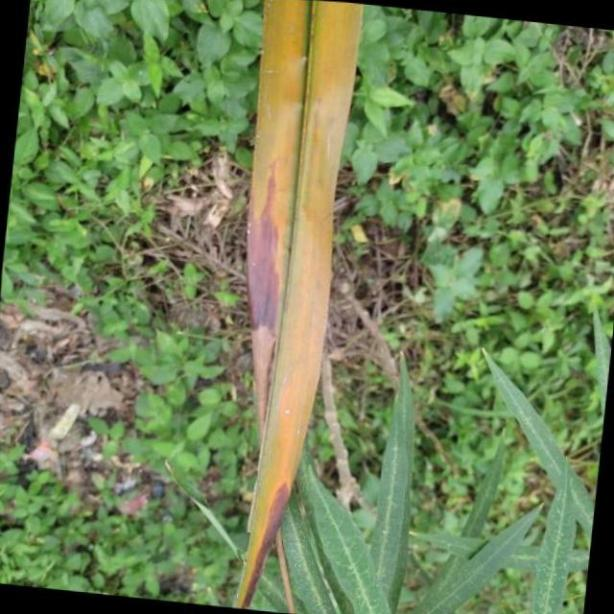Megnesium: (235, 0, 365, 614)
